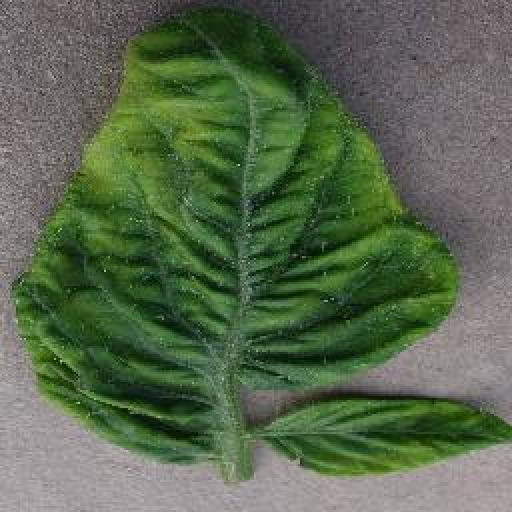disease_tomato: (13, 7, 455, 465), (260, 395, 511, 481)
